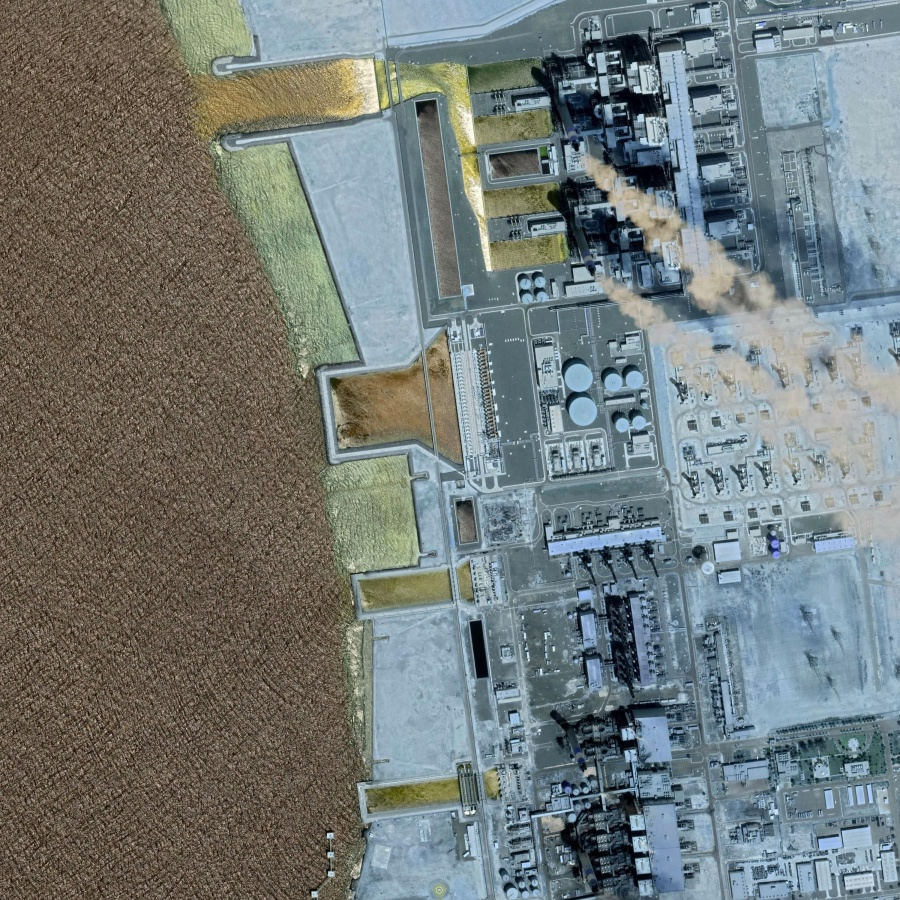PowerPlant: (452, 20, 895, 428), (497, 582, 719, 898)
